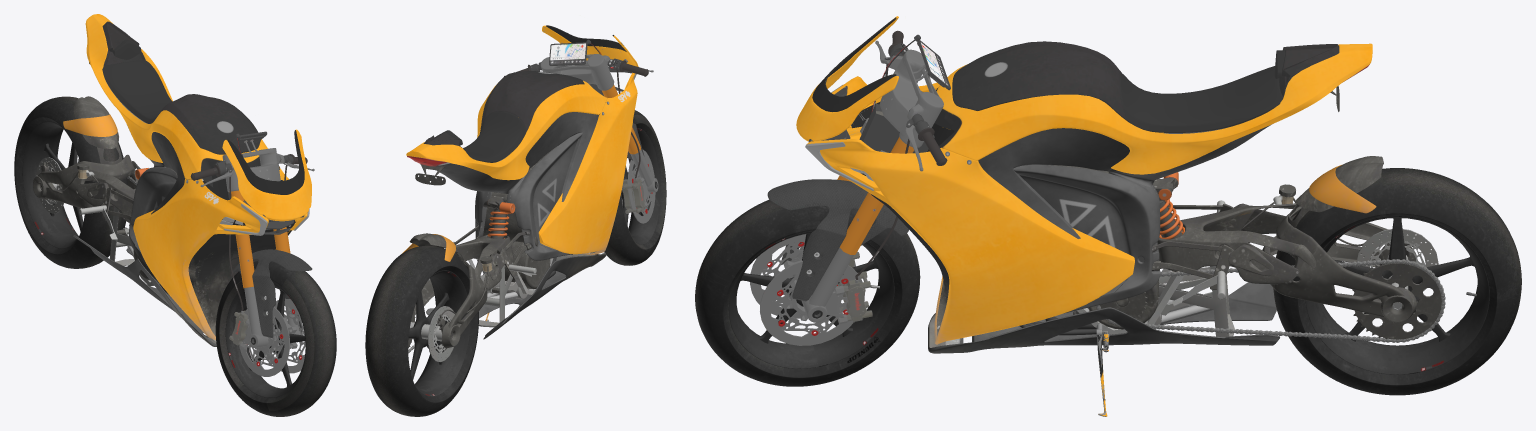
File: spy.glb
3 views of the same model, side by side, from view 1: azimuth 30°, elevation 25°; view 2: azimuth 150°, elevation 25°; view 3: azimuth 270°, elevation 25° (orthographic). The views are drawn at different scales.
Visible parts, largest first — view 1: Object_22, Object_25, Object_2, Object_21, Object_20, Object_23, Object_18, Object_11, Object_17, Object_10, Object_15, Object_4 (+5 smaller); view 2: Object_2, Object_22, Object_23, Object_21, Object_25, Object_4, Object_18, Object_11, Object_7, Object_10, Object_20, Object_19 (+6 smaller); view 3: Object_22, Object_21, Object_2, Object_25, Object_23, Object_11, Object_24, Object_18, Object_17, Object_20, Object_10, Object_4 (+7 smaller).
Boxes of the visible parts, left/top/right/bottom form: Object_22: left=85, top=14, right=280, bottom=187; Object_25: left=215, top=260, right=336, bottom=416; Object_2: left=14, top=96, right=127, bottom=268; Object_21: left=133, top=168, right=307, bottom=340; Object_20: left=188, top=129, right=311, bottom=335; Object_23: left=72, top=78, right=216, bottom=346; Object_18: left=186, top=133, right=307, bottom=336; Object_11: left=47, top=96, right=140, bottom=222; Object_17: left=200, top=162, right=314, bottom=358; Object_10: left=38, top=154, right=138, bottom=208; Object_15: left=224, top=133, right=304, bottom=376; Object_4: left=40, top=163, right=177, bottom=280; Object_2: left=365, top=245, right=478, bottom=416; Object_22: left=406, top=71, right=607, bottom=180; Object_23: left=426, top=112, right=606, bottom=339; Object_21: left=485, top=72, right=637, bottom=321; Object_25: left=604, top=110, right=666, bottom=265; Object_4: left=407, top=156, right=550, bottom=353; Object_18: left=504, top=43, right=653, bottom=186; Object_11: left=402, top=156, right=517, bottom=315; Object_7: left=476, top=146, right=557, bottom=306; Object_10: left=414, top=260, right=487, bottom=335; Object_20: left=542, top=25, right=638, bottom=253; Object_19: left=549, top=42, right=648, bottom=212; Object_22: left=934, top=41, right=1372, bottom=174; Object_21: left=807, top=76, right=1134, bottom=416; Object_2: left=1273, top=168, right=1521, bottom=395; Object_25: left=695, top=199, right=920, bottom=386; Object_23: left=928, top=76, right=1292, bottom=353; Object_11: left=1157, top=156, right=1415, bottom=342; Object_24: left=1013, top=164, right=1161, bottom=313; Object_18: left=796, top=30, right=971, bottom=306; Object_17: left=767, top=40, right=923, bottom=320; Object_20: left=796, top=16, right=1109, bottom=351; Object_10: left=1262, top=206, right=1405, bottom=317; Object_4: left=1088, top=64, right=1425, bottom=352.
Bounding box in the file's own units: 0.6104 × 1.19 × 2.32.
Materials: 7 (7 with a texture image).
